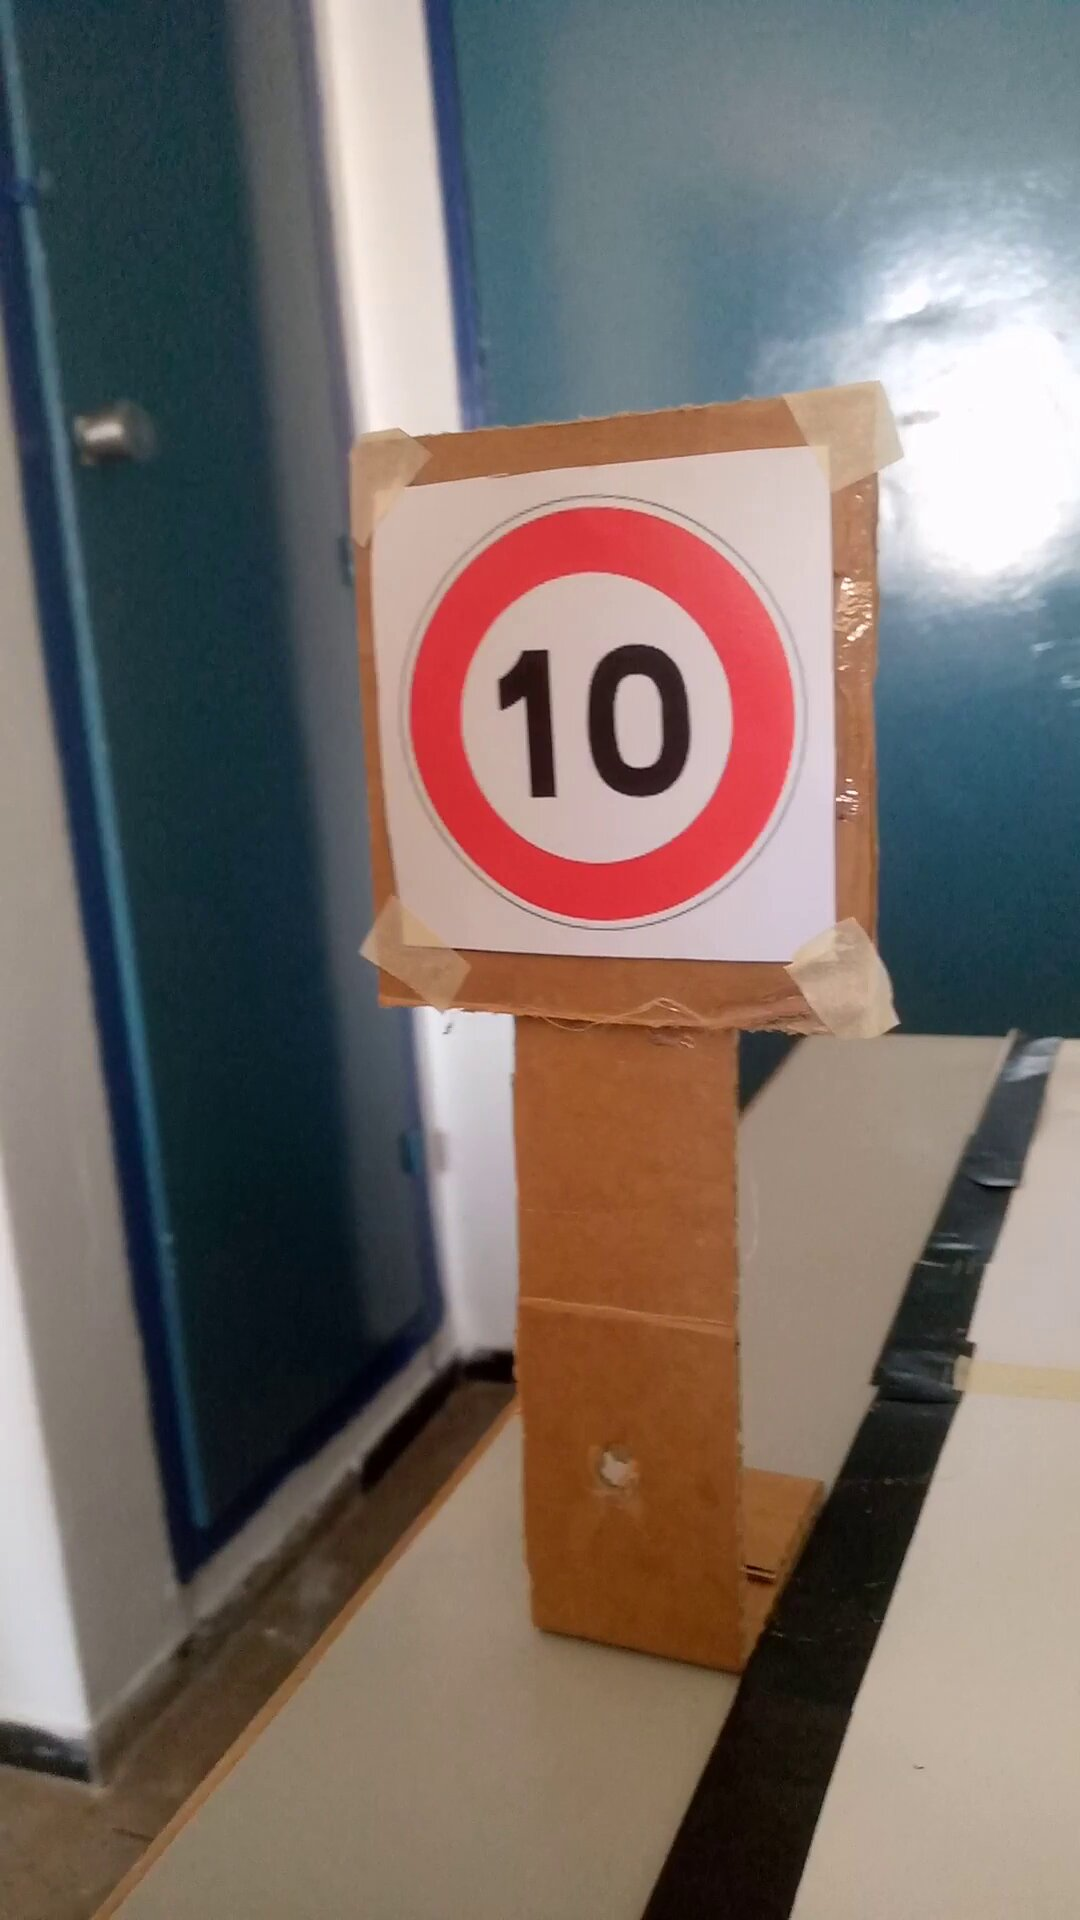panel011: (353, 458, 847, 986)
